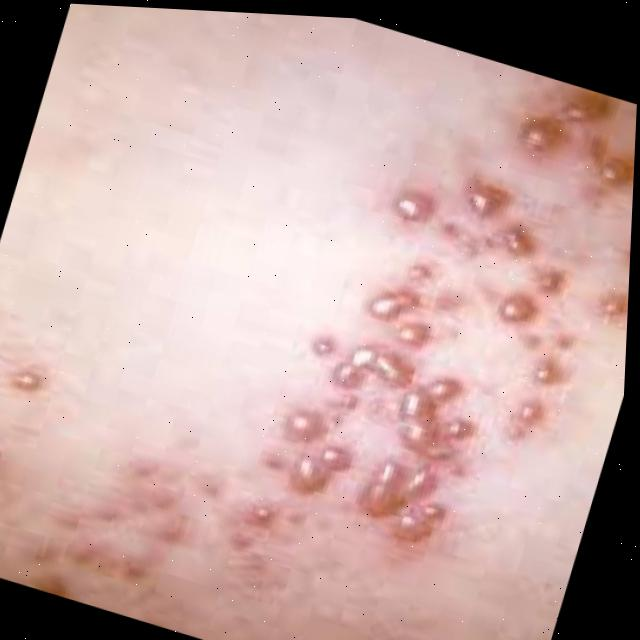Shingles: (268, 26, 640, 571), (37, 427, 230, 635), (0, 319, 58, 502)
